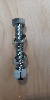FinishedAssembly: (9, 17, 32, 84)
